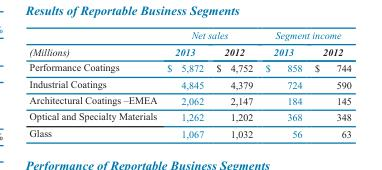table: (28, 29, 350, 138)
table column: (28, 29, 161, 138), (209, 29, 258, 138), (258, 29, 307, 138), (161, 29, 209, 138), (307, 29, 350, 138)
table column header: (28, 29, 350, 59)
table row: (28, 91, 350, 108), (28, 43, 350, 59), (28, 59, 350, 75), (28, 75, 350, 91), (28, 108, 350, 124), (28, 29, 350, 43), (28, 124, 350, 138)
table spanning cell: (28, 29, 161, 59), (161, 29, 258, 43), (258, 29, 350, 43)
